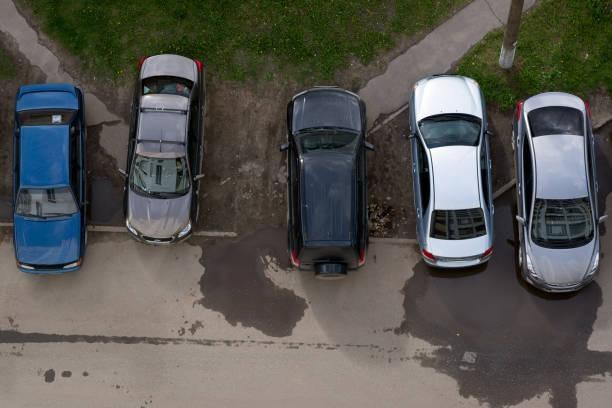Car: (508, 86, 611, 300), (276, 79, 378, 284), (112, 48, 210, 249), (405, 69, 497, 273), (8, 81, 91, 277)
